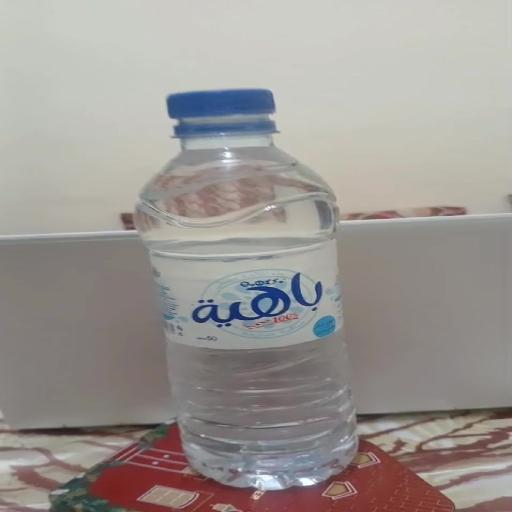bouteille non conformite: (84, 73, 409, 509), (141, 81, 310, 154)
